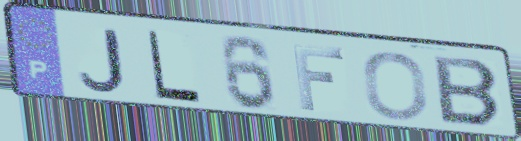6: (218, 33, 278, 113)
B: (430, 53, 505, 130)
F: (289, 42, 348, 113)
J: (76, 28, 128, 94)
L: (145, 27, 204, 105)
O: (361, 50, 431, 123)
